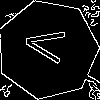V: (23, 24, 75, 67)
